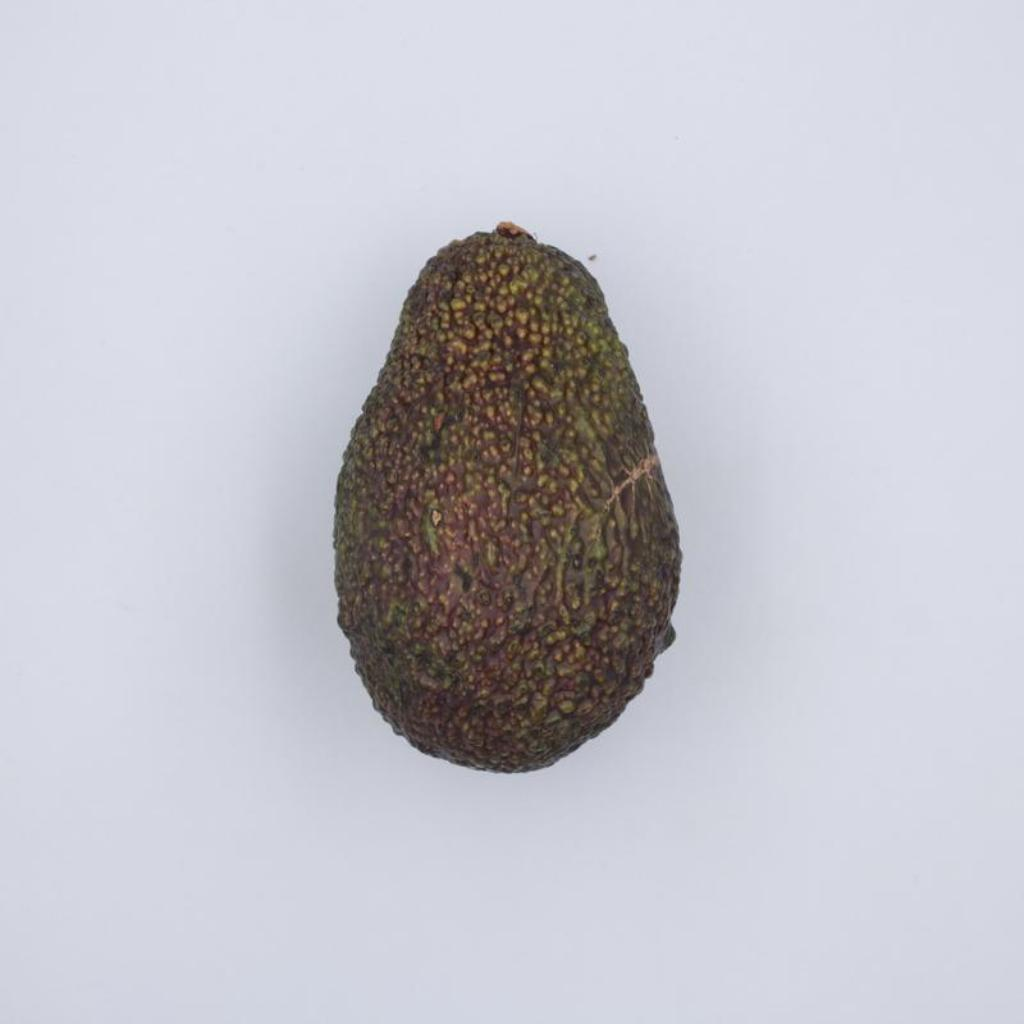anthracnose: (333, 224, 678, 769)
